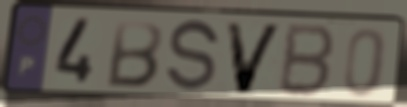0: (340, 26, 390, 101)
4: (52, 15, 100, 92)
B: (275, 21, 339, 101), (102, 18, 166, 91)
S: (163, 17, 223, 96)
V: (222, 20, 286, 97)
